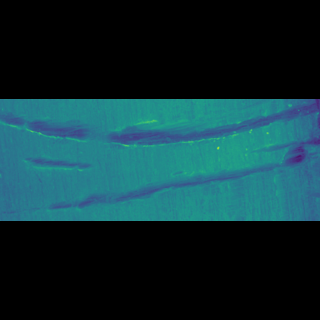Loch: (1, 148, 318, 183), (0, 137, 318, 156), (21, 156, 98, 165)
